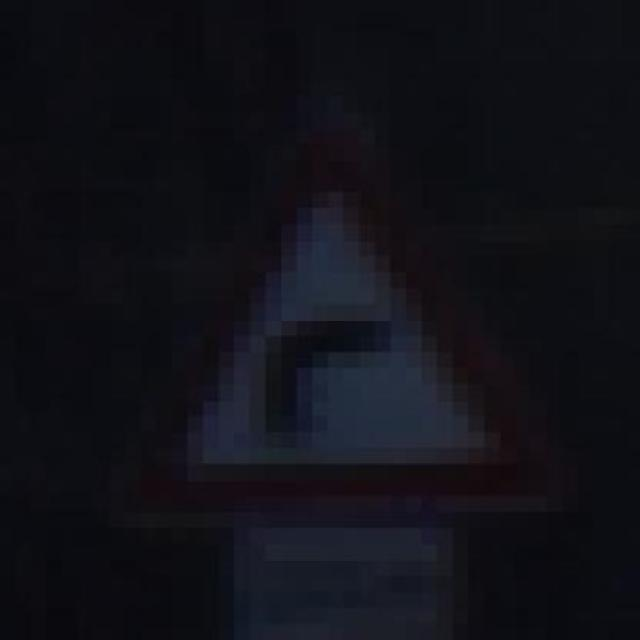Dangerous Rright Curve Ahead: (109, 128, 562, 544)
